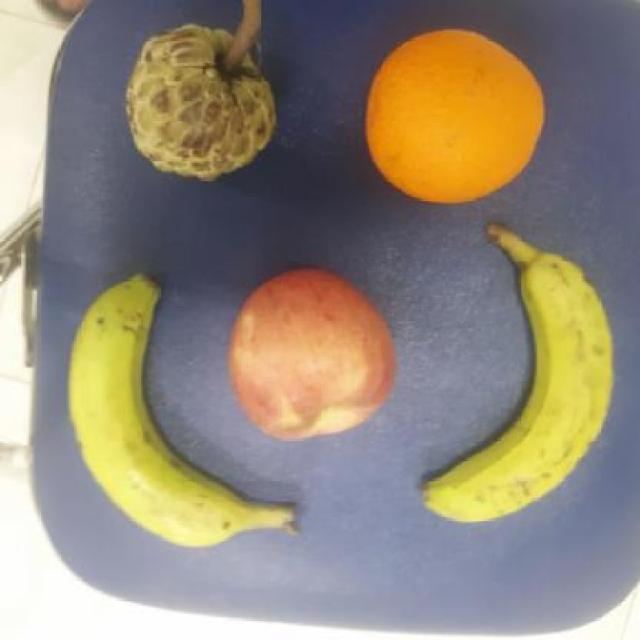apple: (228, 270, 397, 442)
banana: (68, 276, 302, 550), (420, 222, 614, 523)
oren: (364, 29, 544, 206)
sugar apple: (127, 25, 278, 182)
